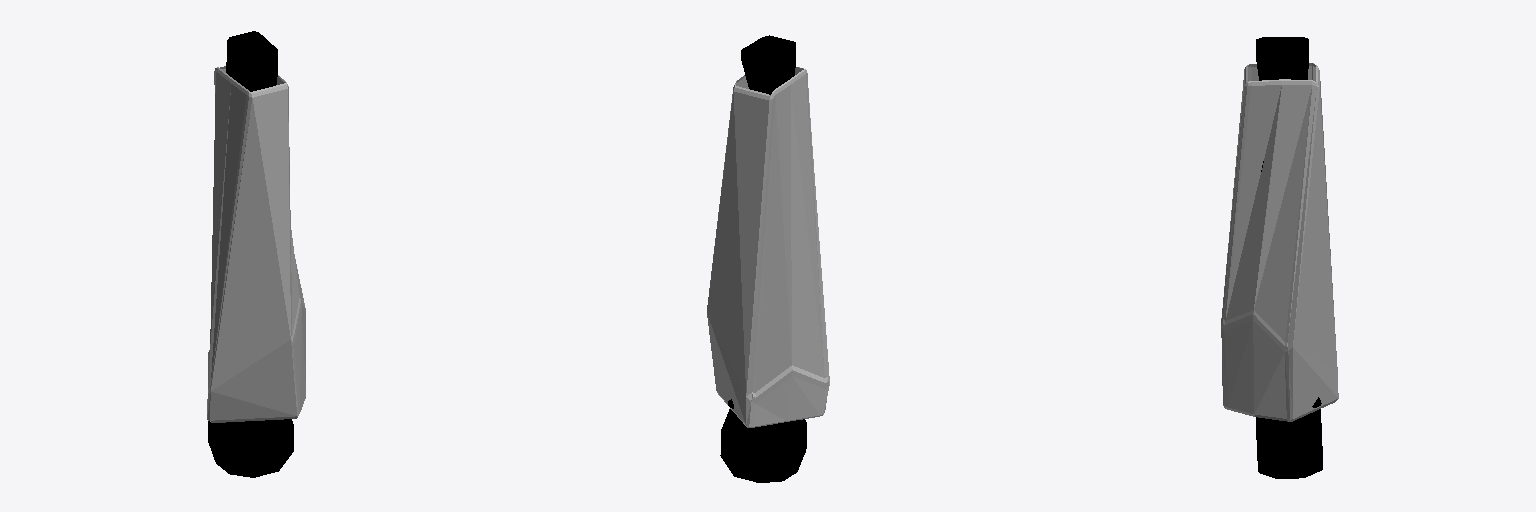
Rendered from Down_Arm_Left.obj.
3 views of the same model, side by side, from view 1: azimuth 30°, elevation 25°; view 2: azimuth 150°, elevation 25°; view 3: azimuth 270°, elevation 25° (orthographic).
Parts seen in each view (by area): view 1: down_arm_left, joint_down_arm_left; view 2: down_arm_left, joint_down_arm_left; view 3: down_arm_left, joint_down_arm_left.
Boxes of the visible parts, x1=… form: down_arm_left: x1=207, y1=66, x2=305, y2=422; joint_down_arm_left: x1=208, y1=31, x2=293, y2=477; down_arm_left: x1=707, y1=67, x2=829, y2=427; joint_down_arm_left: x1=720, y1=35, x2=806, y2=482; down_arm_left: x1=1221, y1=63, x2=1338, y2=421; joint_down_arm_left: x1=1256, y1=37, x2=1322, y2=478.
Bounding box in the file's own units: 0.2947 × 1.09 × 0.2738.